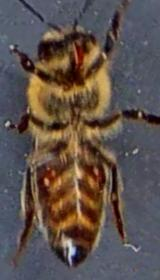varroa_mite: (32, 154, 64, 196), (75, 160, 109, 194)
